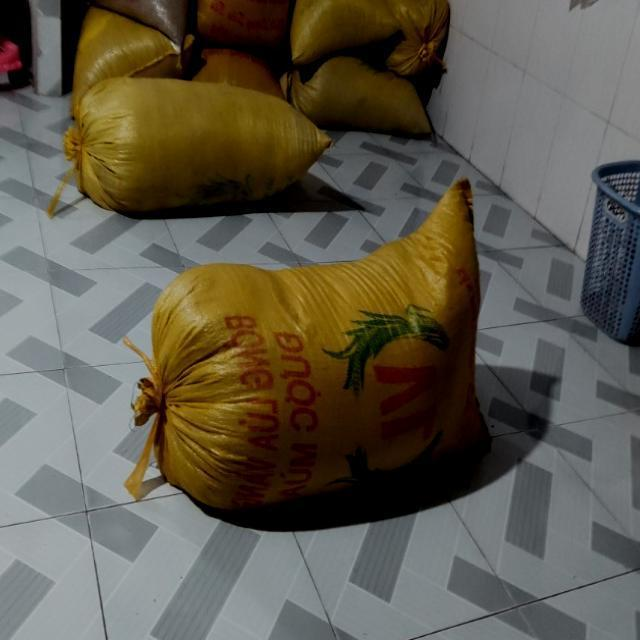gunny_bag: (125, 179, 490, 512), (62, 76, 331, 212), (286, 51, 431, 135)
